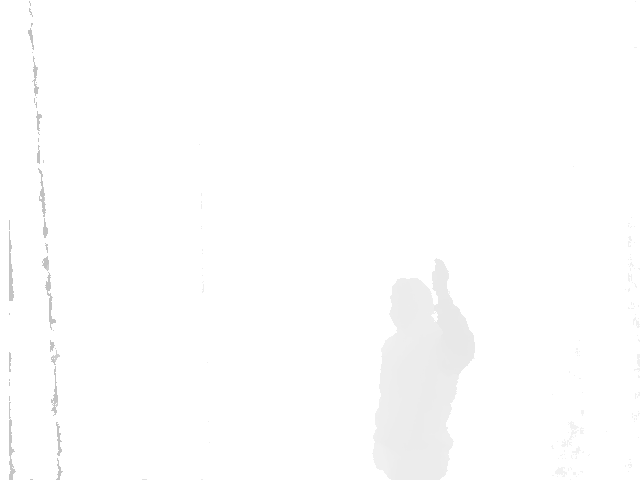hand: (430, 258, 451, 299)
head: (389, 277, 433, 330)
person: (372, 257, 475, 480)
